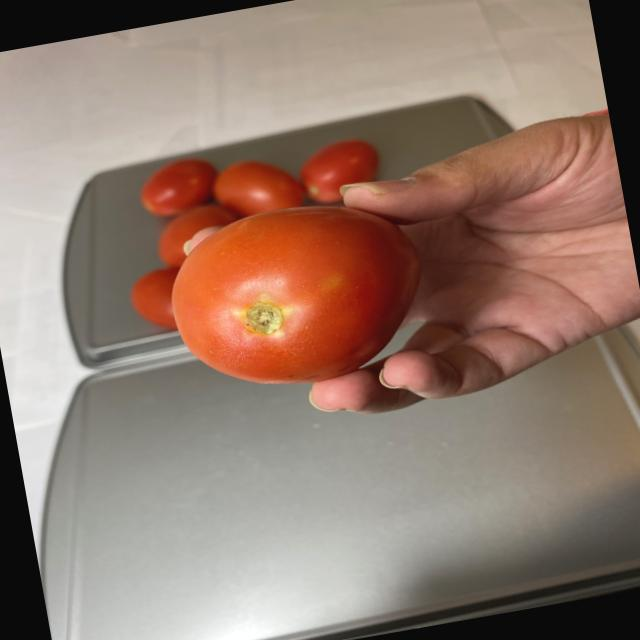tomato: (150, 186, 440, 402)
